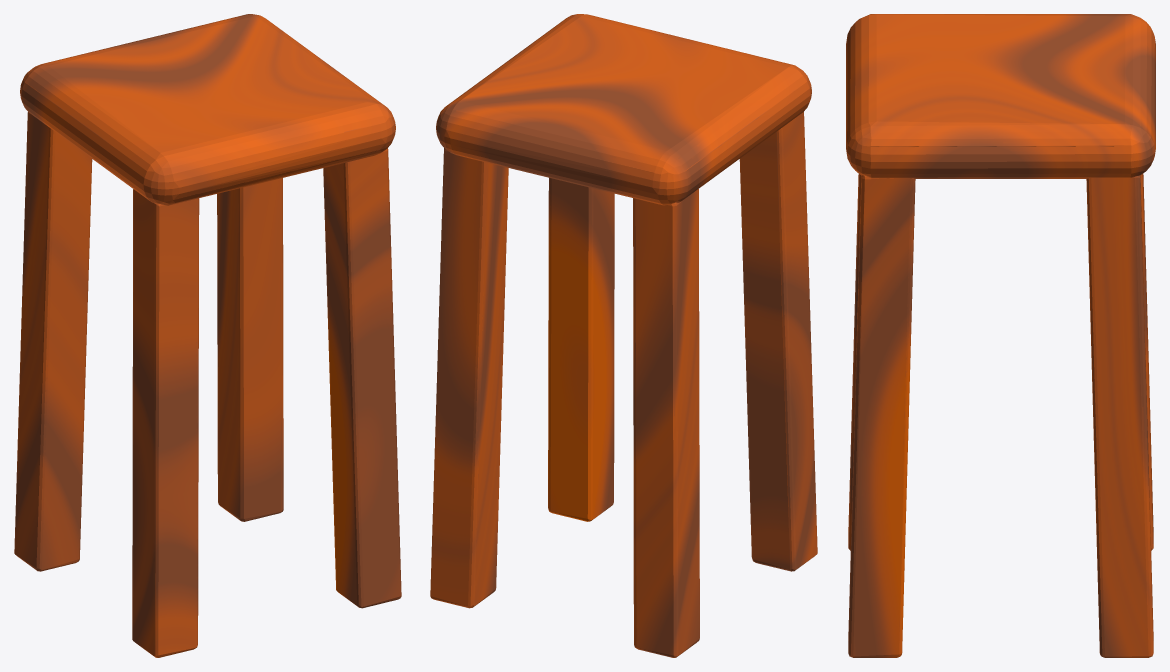
Rendered from WoodenBench.fbx.
3 views of the same model, side by side, from view 1: azimuth 30°, elevation 25°; view 2: azimuth 150°, elevation 25°; view 3: azimuth 270°, elevation 25° (orthographic). The views are drawn at different scales.
Parts seen in each view (by area): view 1: WoodenBench; view 2: WoodenBench; view 3: WoodenBench.
Part boxes in pixels (left/top/right/bottom): WoodenBench: left=14, top=14, right=401, bottom=657; WoodenBench: left=430, top=14, right=817, bottom=657; WoodenBench: left=846, top=14, right=1155, bottom=657.
Size of the model in its own units: 97.63 by 183 by 97.9.
